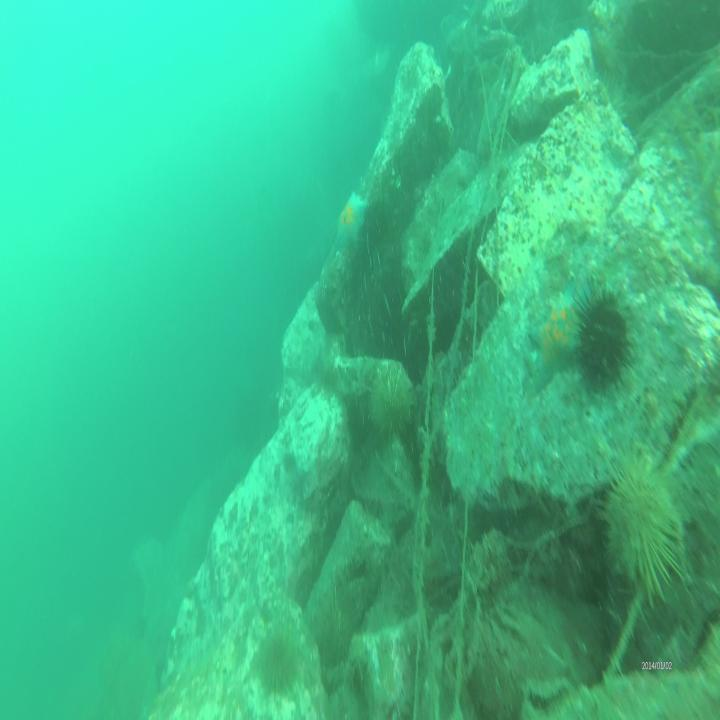echinus: (604, 451, 687, 605), (574, 290, 633, 388), (472, 653, 526, 720), (365, 373, 414, 436), (316, 601, 356, 664), (256, 623, 292, 687)
starfish: (524, 313, 584, 382), (338, 197, 370, 252)
